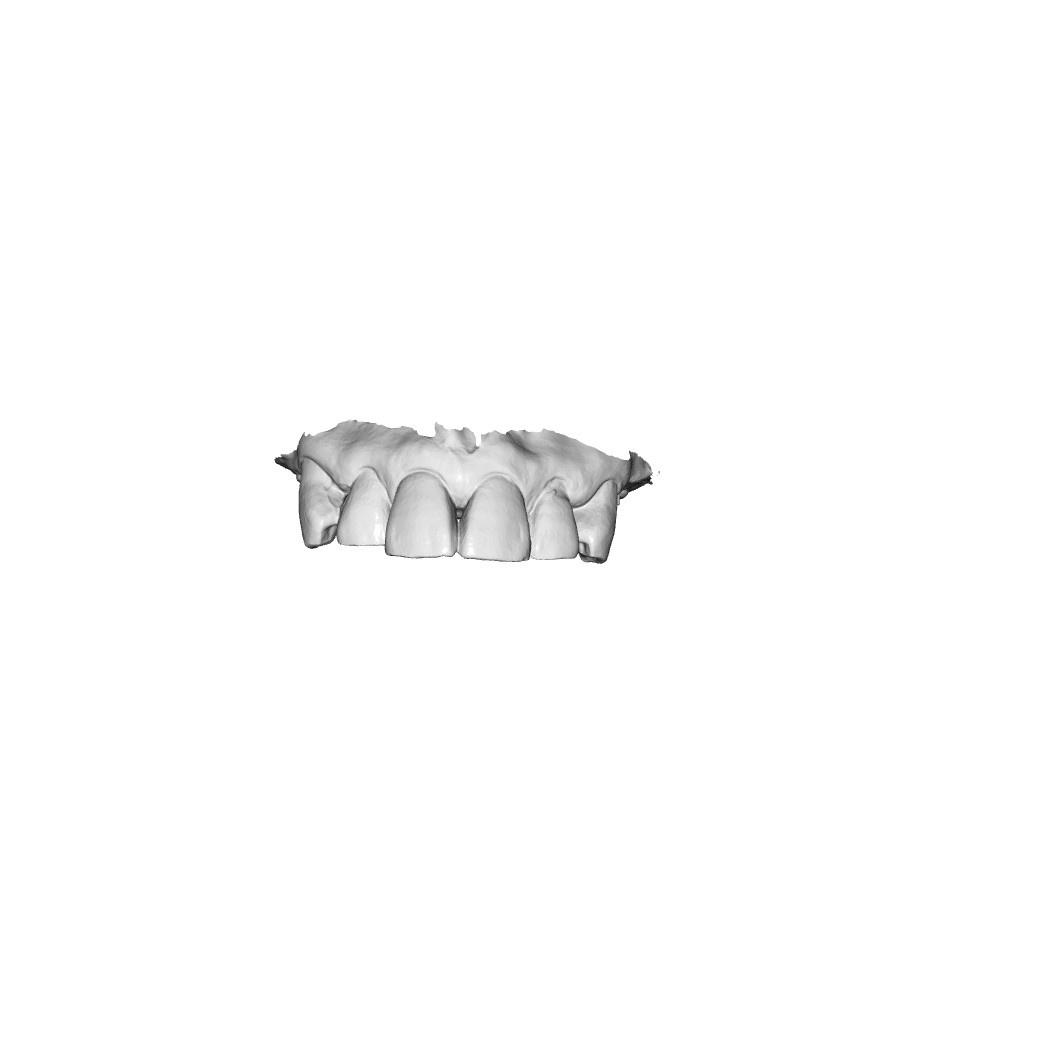canine: (288, 457, 344, 560), (575, 478, 630, 571)
incisor: (386, 464, 458, 570), (458, 468, 530, 570), (333, 467, 398, 559), (528, 492, 579, 565)
